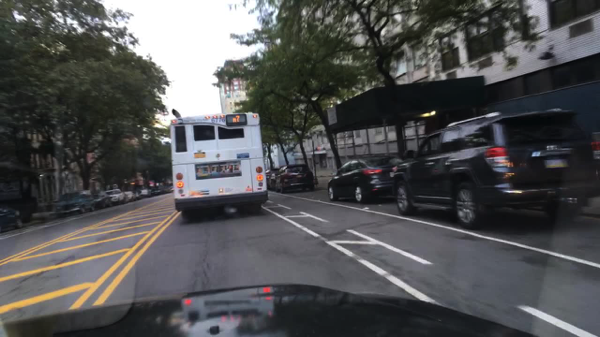bus: (169, 108, 269, 222)
car: (392, 106, 599, 229), (327, 156, 400, 204), (52, 189, 95, 219), (275, 165, 316, 192), (0, 203, 23, 235), (92, 191, 111, 210), (106, 190, 125, 203), (270, 168, 280, 189), (264, 169, 274, 183), (122, 191, 134, 202), (138, 187, 151, 197), (152, 187, 162, 196), (133, 191, 141, 199), (162, 186, 169, 193), (168, 186, 173, 193)
